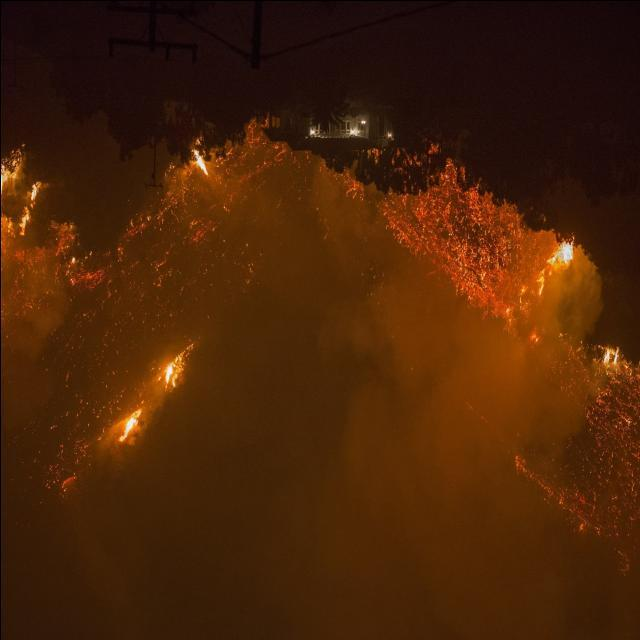Fire: (0, 134, 266, 310), (338, 144, 578, 333), (510, 345, 638, 545), (112, 348, 188, 448)
